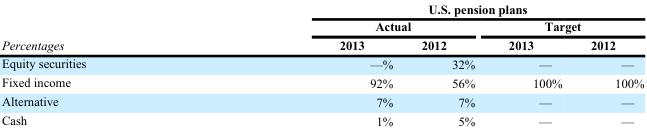table: (0, 1, 643, 127)
table column: (0, 1, 212, 127), (212, 1, 406, 127), (406, 1, 491, 127), (491, 1, 575, 127), (575, 1, 643, 127)
table column header: (0, 1, 643, 53)
table row: (0, 53, 643, 72), (0, 72, 643, 91), (0, 91, 643, 110), (0, 17, 643, 35), (0, 35, 643, 53), (0, 110, 643, 127), (0, 1, 643, 17)
table spanning cell: (0, 1, 212, 53), (212, 1, 643, 17), (212, 17, 491, 35), (491, 17, 643, 35)
